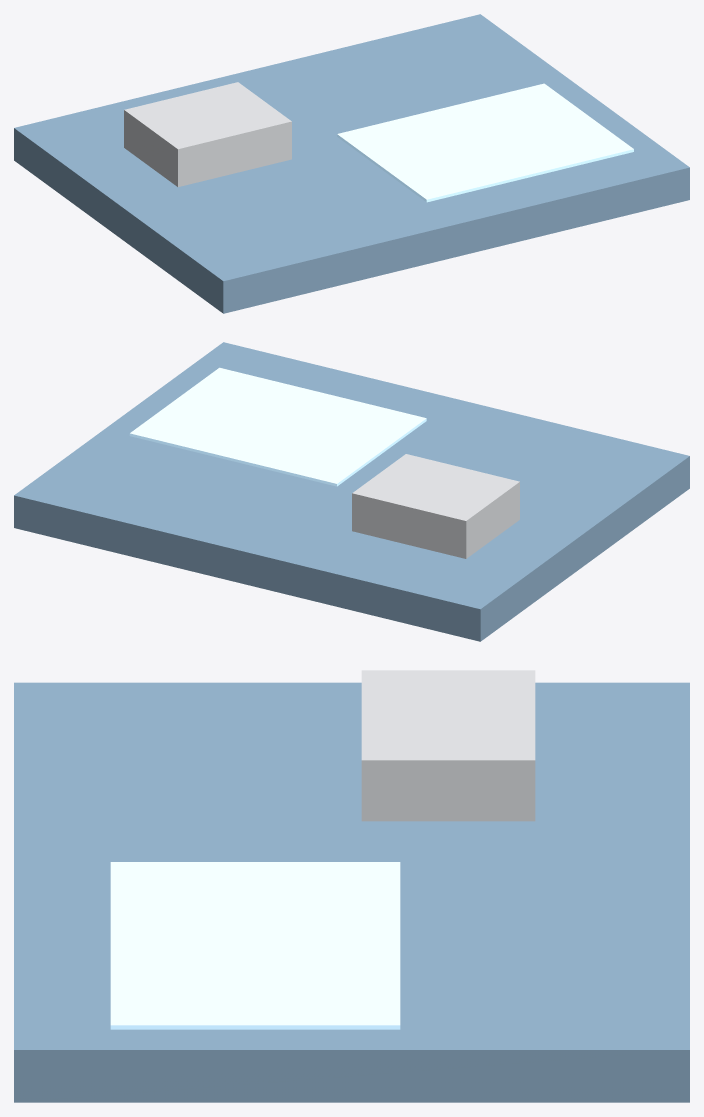
File: built-melt-puddle.glb
The picture shows the model from 3 angles, top to bottom: view 1: azimuth 30°, elevation 25°; view 2: azimuth 150°, elevation 25°; view 3: azimuth 270°, elevation 25°; orthographic projection. The views are drawn at different scales.
Parts seen in each view (by area): view 1: built-melt-puddle; view 2: built-melt-puddle; view 3: built-melt-puddle.
Boxes of the visible parts, x1,y1,x2,y2 form: built-melt-puddle: (14,14,689,313); built-melt-puddle: (14,342,689,641); built-melt-puddle: (14,670,689,1102).
Size of the model in its own units: 0.9 by 0.13 by 0.7.
